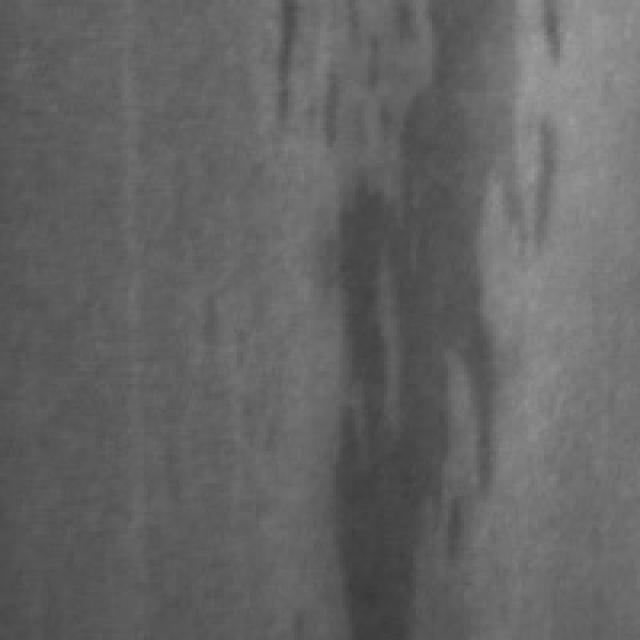inclusion: (324, 0, 573, 630), (266, 0, 317, 150)
